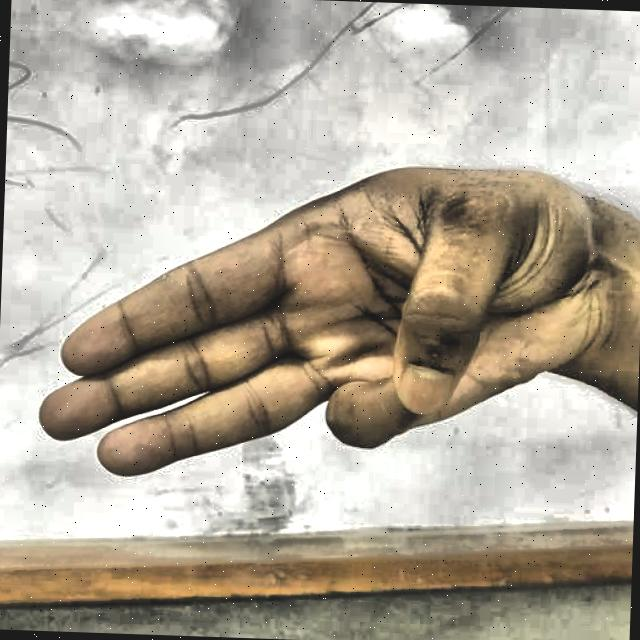Ma: (18, 132, 620, 527)
